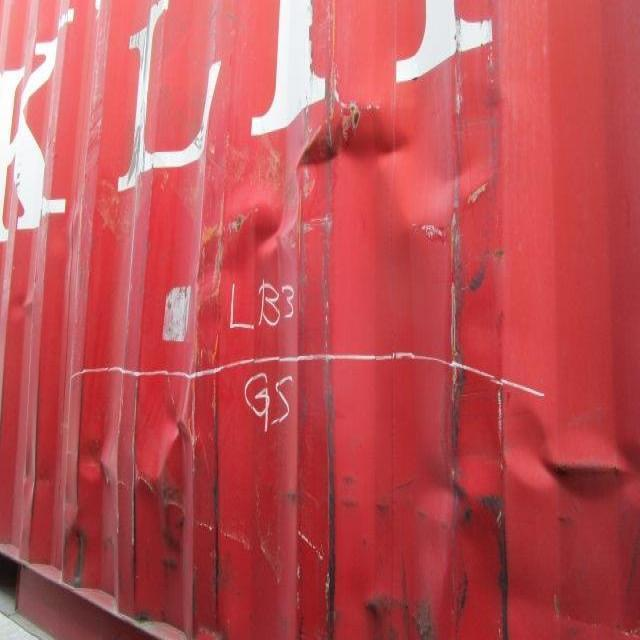dent: (26, 334, 304, 608), (199, 61, 509, 277), (420, 407, 639, 591)
